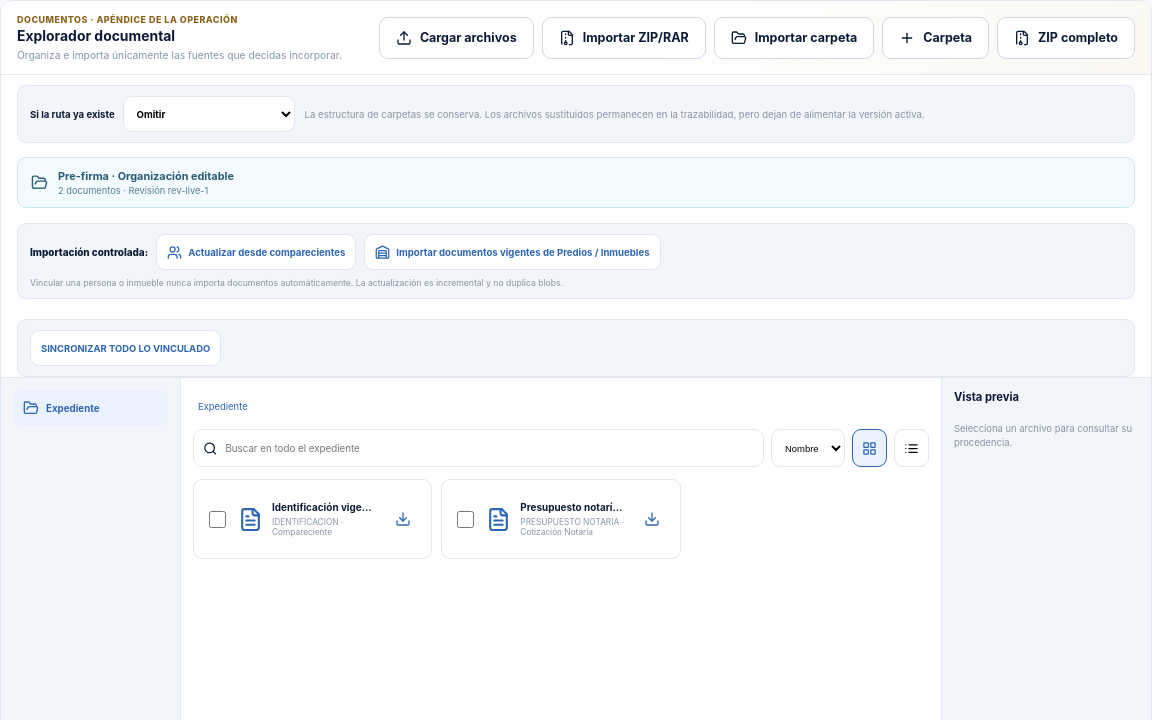
Test: EXP-004 apéndice documental › abre una vista previa PDF real mediante URL privada temporal
The image size is (1152, 720).
Click the text "Identificación vigente.pdf" at (325, 507), box [272,501,377,513]
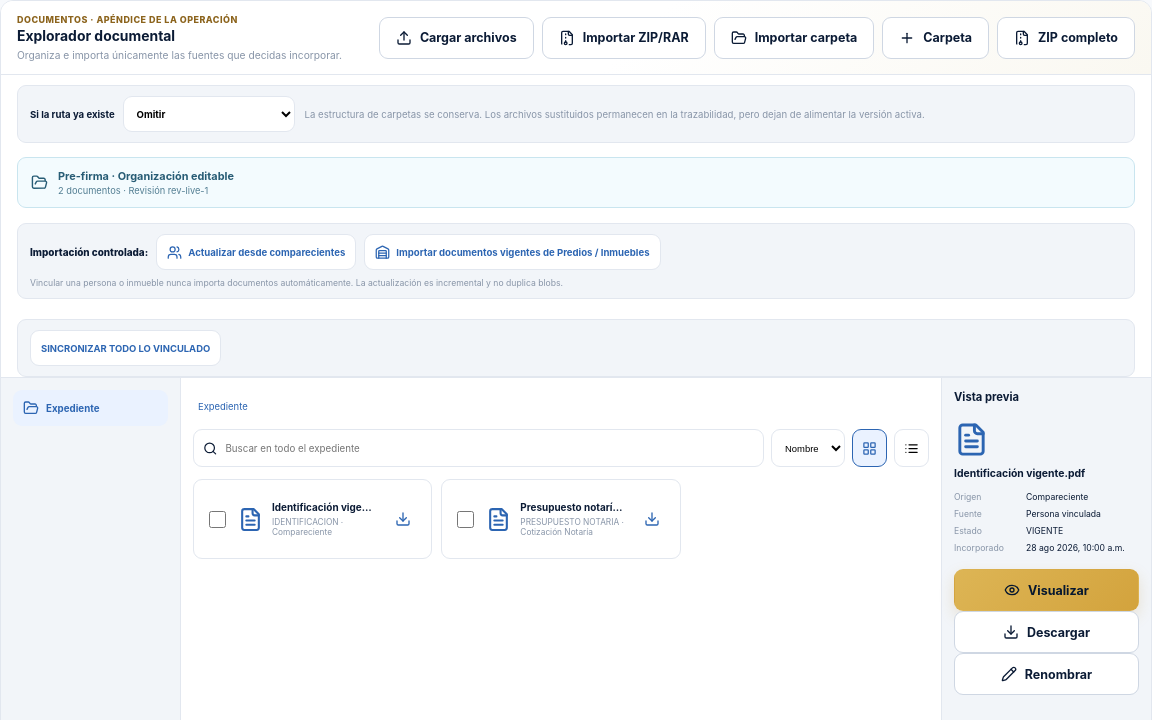
Now the button "Visualizar" is enabled
Click the button "Visualizar" at (1046, 590), box [954,569,1139,611]
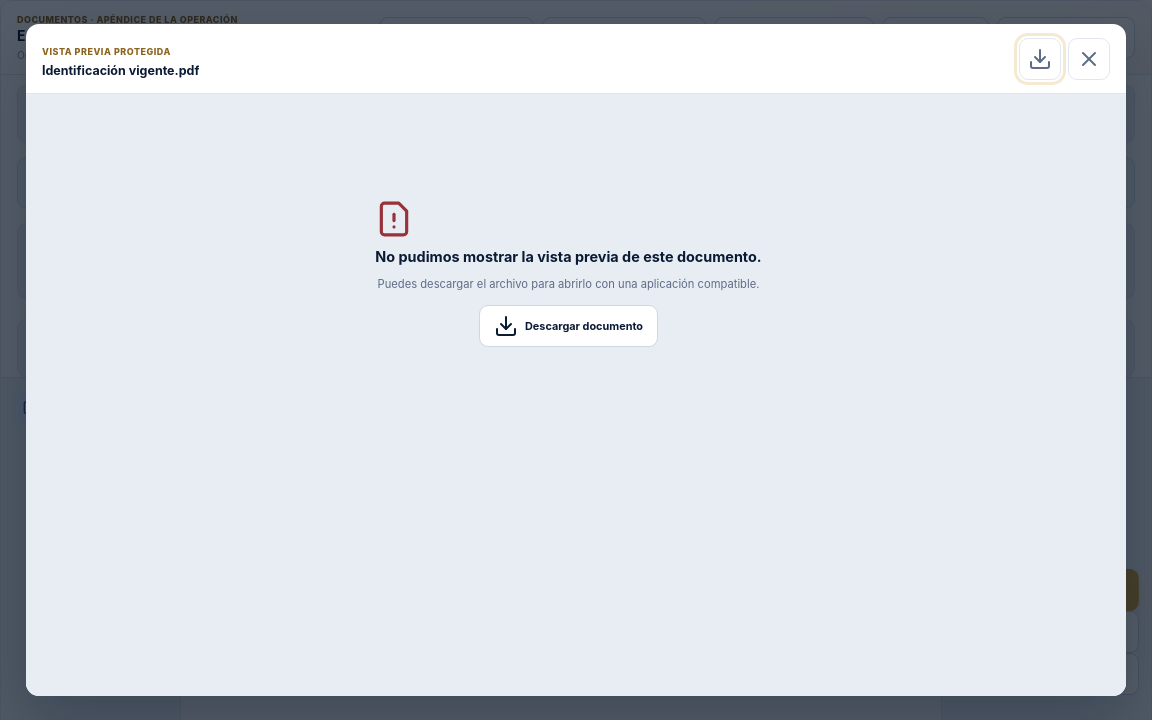
Now the dialog "Identificación vigente.pdf" is shown
Now the element named "Vista previa de Identificación vigente.pdf" is shown, box [375,200,762,347]
